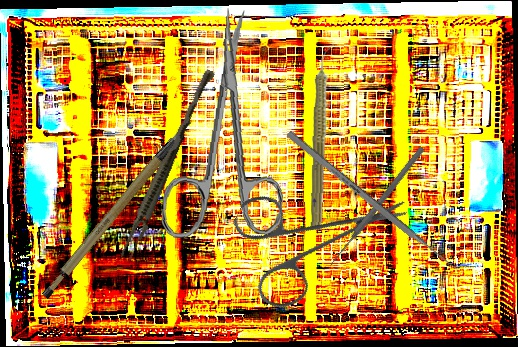Handpiece: (307, 41, 336, 231)
Iris Scissors: (207, 137, 411, 341), (160, 4, 299, 247)
Pusher: (285, 130, 461, 274), (327, 145, 426, 268)
Scalpel Handle: (21, 120, 216, 303)
Tissue Forceps: (118, 65, 216, 263)
